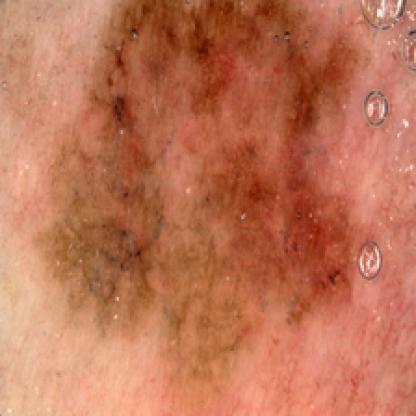malignant: (74, 30, 358, 306)
